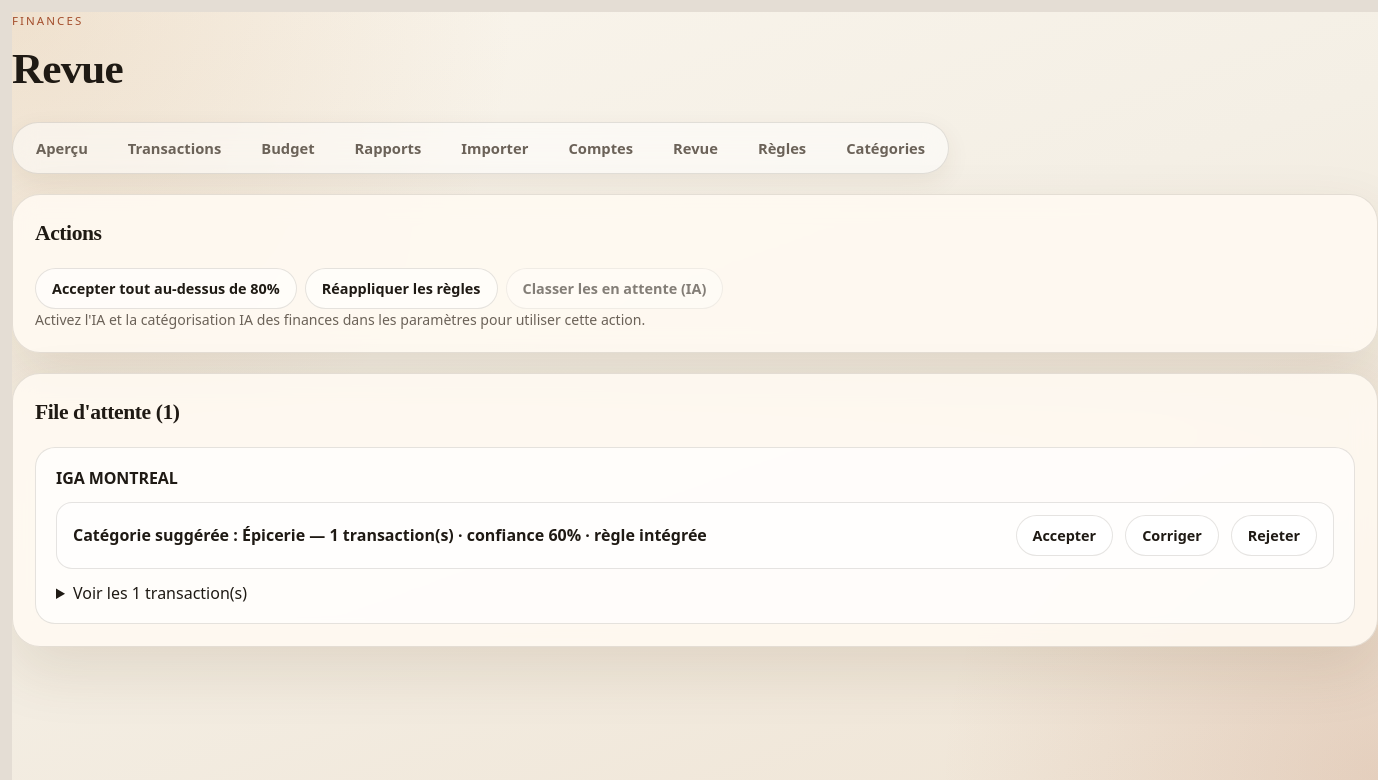
Test: FinanceReviewPage › correcting a suggestion flips memory to the chosen category with confidence reset
The image size is (1378, 780).
Expected: the heading "IGA MONTREAL" is shown, [56,467,178,489]
Click the button "Corriger" at (1172, 535), box [1125,515,1219,556]
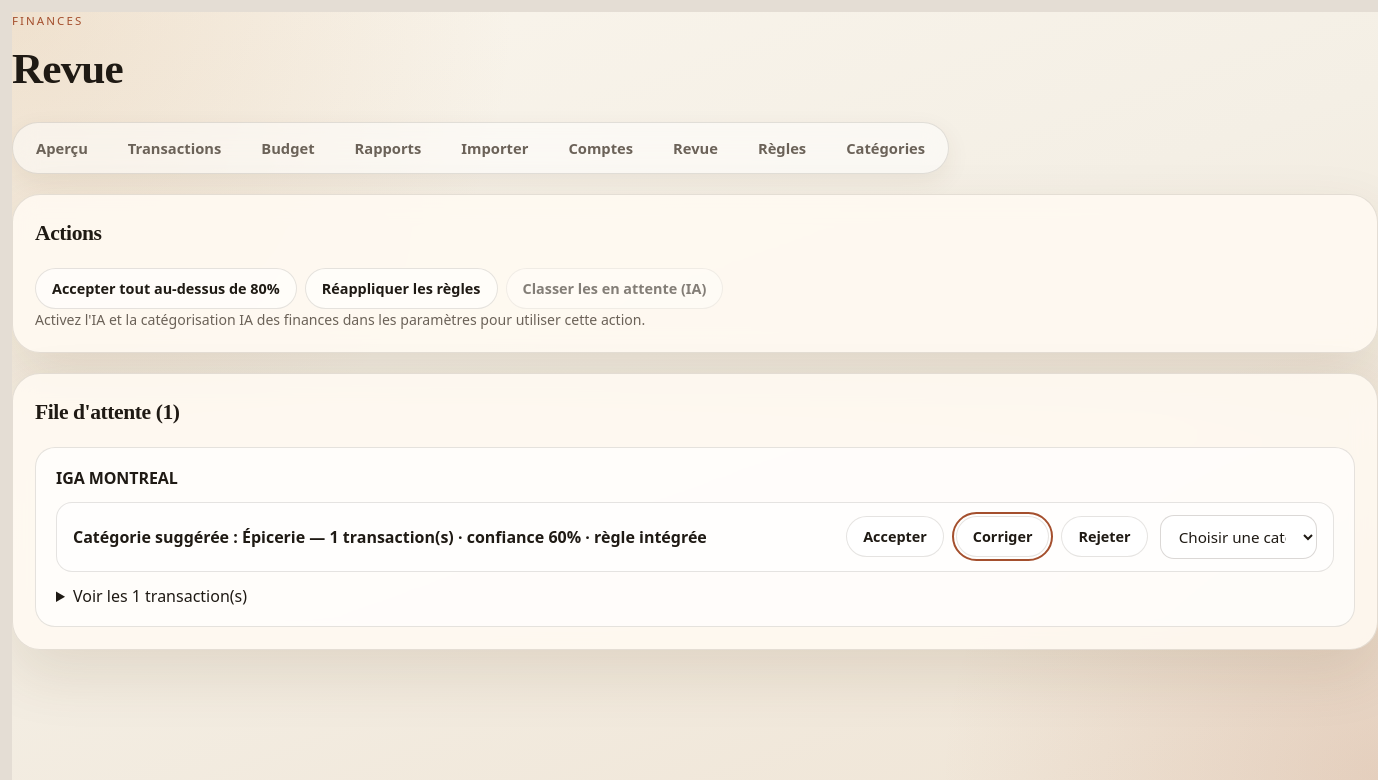
Select "Restaurants" in the dropdown at (1238, 537), box [1160,515,1317,559]
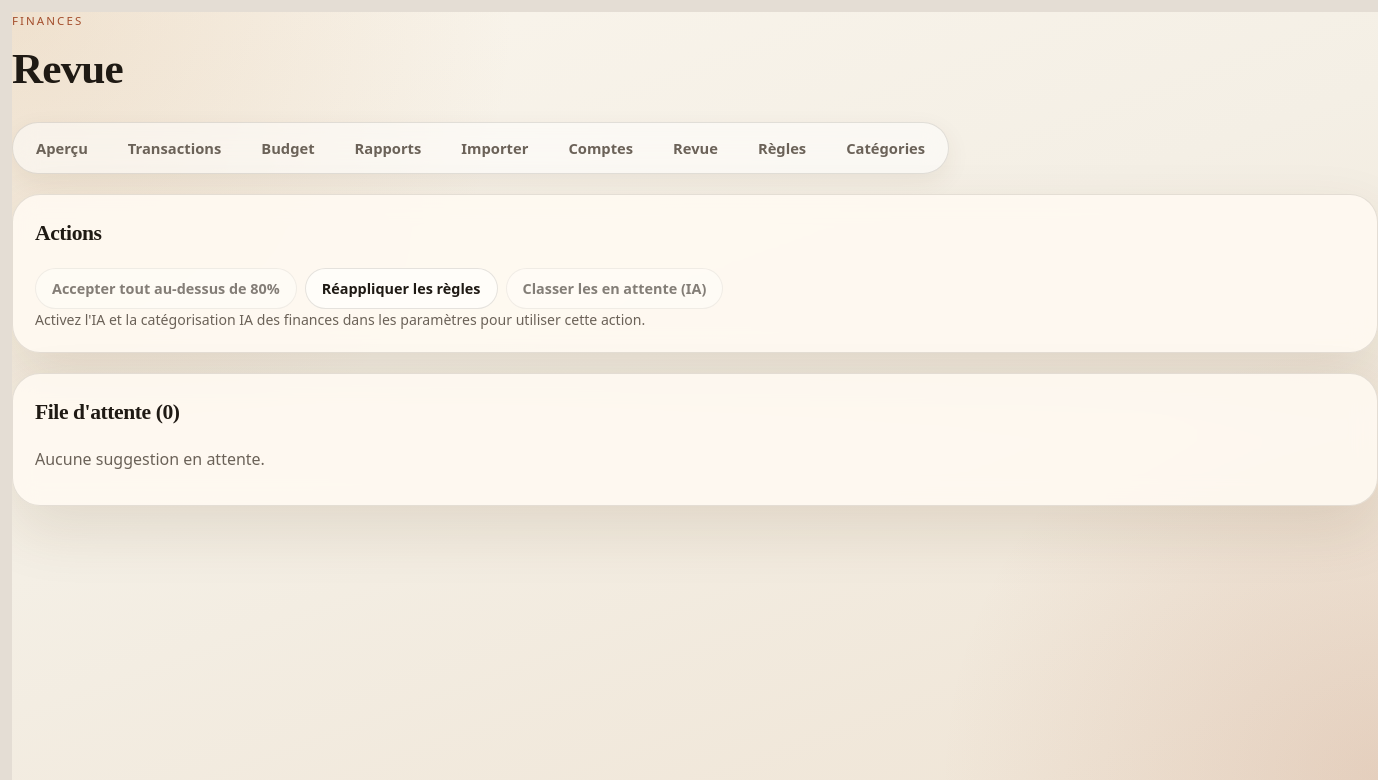
Now the text "Aucune suggestion en attente." is shown, box [35,448,265,470]
